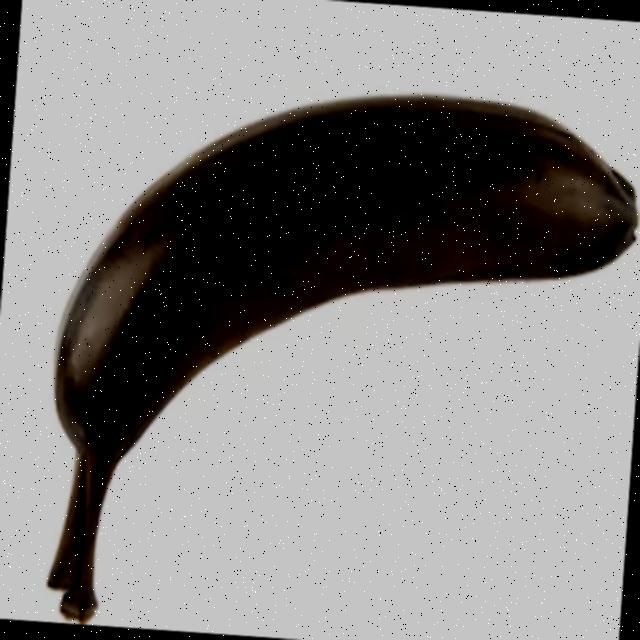Rotten: (15, 44, 640, 640)
